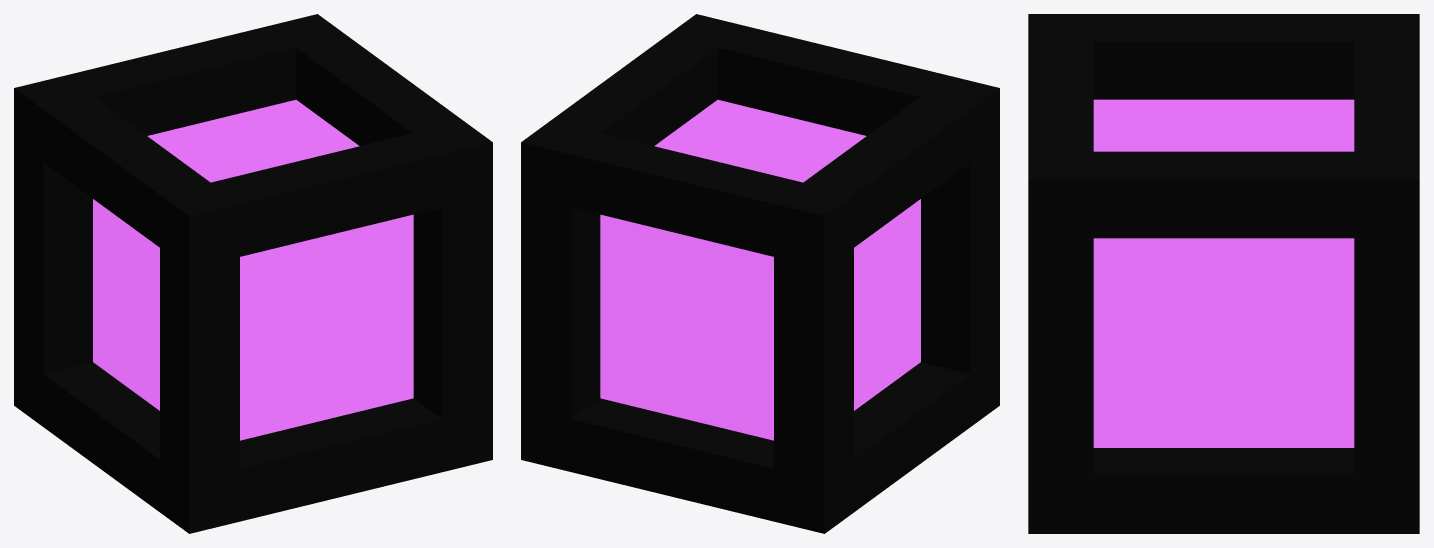
File: enemy.glb
The picture shows the model from 3 angles, left to right: view 1: azimuth 30°, elevation 25°; view 2: azimuth 150°, elevation 25°; view 3: azimuth 270°, elevation 25°; orthographic projection. The views are drawn at different scales.
Visible parts, largest first — view 1: Cube_Borders.001; view 2: Cube_Borders.001; view 3: Cube_Borders.001.
Part boxes in pixels (bbox=[...]): Cube_Borders.001: bbox=[14, 14, 492, 533]; Cube_Borders.001: bbox=[521, 14, 999, 533]; Cube_Borders.001: bbox=[1028, 14, 1419, 533].
Bounding box in the file's own units: 1 × 1 × 1.
